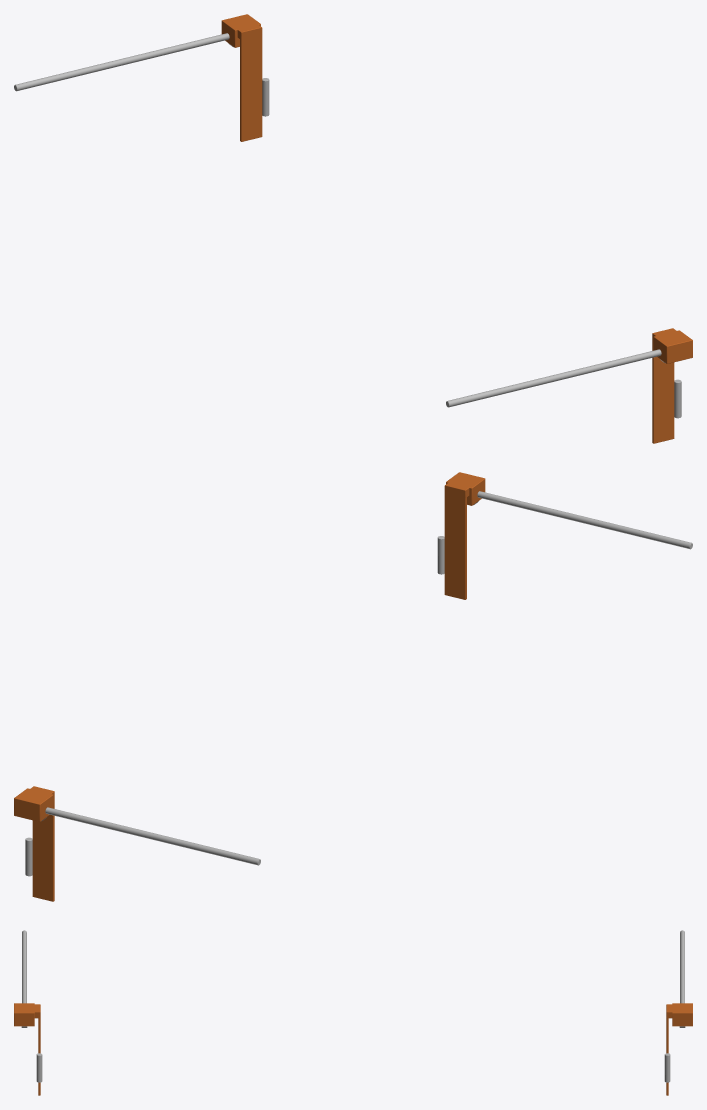
The model's file is stacker_fork_trolley.glb.
3 views of the same model, one above another, from view 1: azimuth 30°, elevation 25°; view 2: azimuth 150°, elevation 25°; view 3: azimuth 270°, elevation 25° (orthographic). The views are drawn at different scales.
Visible parts, largest first — view 1: ForkTrolley, ForkTrolleyGear; view 2: ForkTrolley, ForkTrolleyGear; view 3: ForkTrolley, ForkTrolleyGear.
Part boxes in pixels (<box>): ForkTrolley: <box>221,14,692,443</box>; ForkTrolleyGear: <box>14,33,681,418</box>; ForkTrolley: <box>14,472,485,901</box>; ForkTrolleyGear: <box>25,491,692,876</box>; ForkTrolley: <box>14,1003,692,1095</box>; ForkTrolleyGear: <box>21,930,685,1082</box>.
Bounding box in the file's own units: 1.86 × 0.8 × 5.88.
